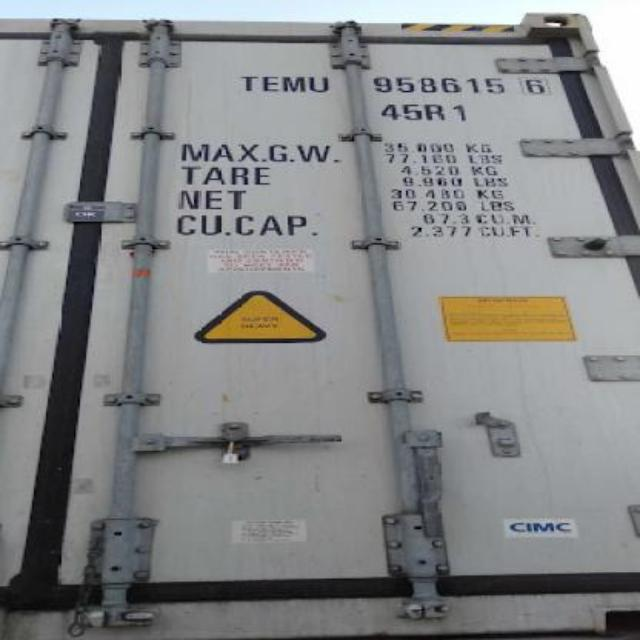1: (464, 76, 484, 94)
5: (392, 75, 418, 95), (482, 76, 508, 96)
6: (438, 75, 464, 95), (522, 78, 550, 94)
8: (414, 75, 438, 95)
9: (372, 75, 394, 95)
E: (260, 75, 284, 91)
M: (284, 75, 310, 95)
T: (236, 75, 260, 93)
U: (308, 75, 334, 95)
